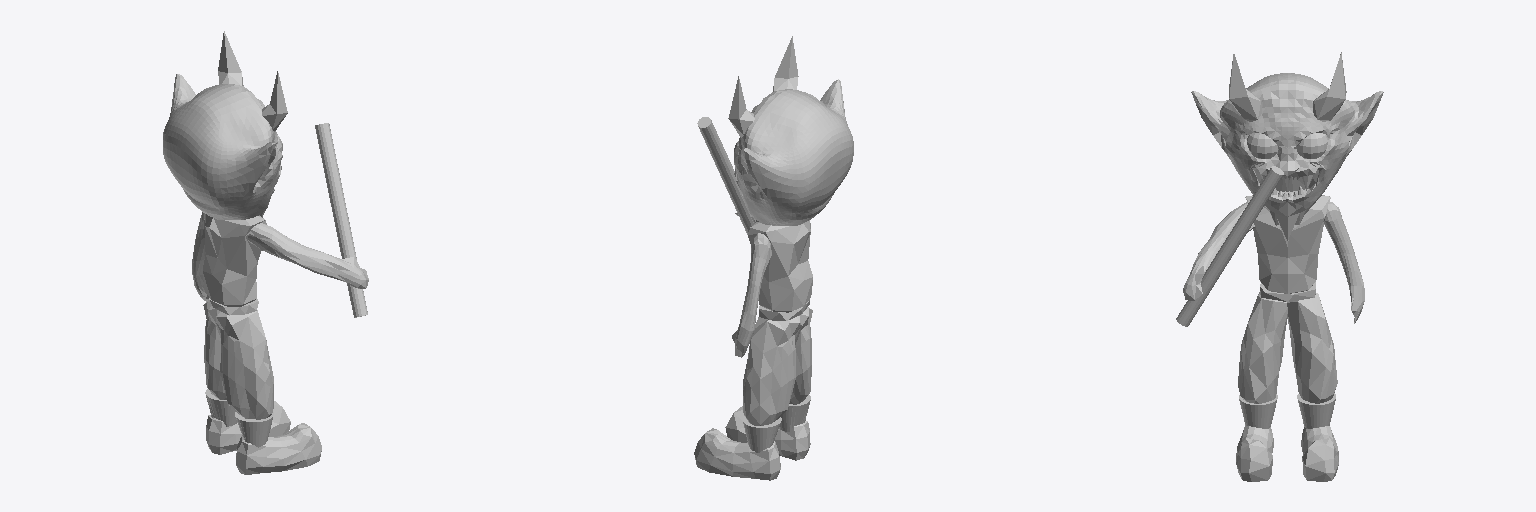
File: mogwai_lowcost.obj
3 renders of one model, left to right at view 1: azimuth 30°, elevation 25°; view 2: azimuth 150°, elevation 25°; view 3: azimuth 270°, elevation 25°, orthographic.
Parts seen in each view (by area): view 1: mogwai; view 2: mogwai; view 3: mogwai.
Part boxes in pixels (x1,y1,x2,y2): mogwai: (163, 31, 368, 474); mogwai: (694, 36, 853, 480); mogwai: (1176, 52, 1383, 481).
Size of the model in its own units: 0.5516 by 1.5 by 0.6933.